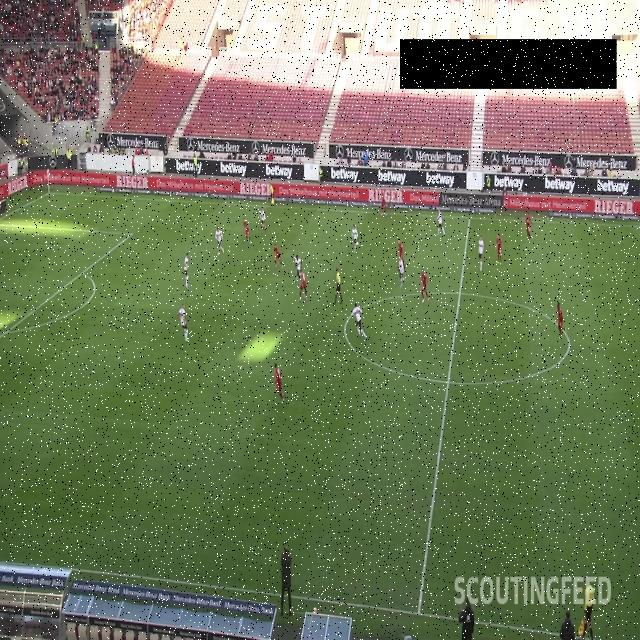Ball: (304, 293, 306, 299)
Referee: (577, 577, 595, 640), (334, 268, 343, 304), (268, 183, 274, 204)
TEAM 1: (274, 362, 284, 404), (556, 300, 566, 339), (420, 268, 429, 305), (494, 233, 504, 266), (298, 269, 307, 302), (243, 216, 252, 245), (274, 244, 284, 270), (525, 211, 533, 243), (398, 238, 406, 270), (380, 193, 388, 217)
TEAM 2: (176, 301, 190, 343), (350, 301, 365, 339), (294, 253, 305, 284), (434, 209, 446, 237), (183, 251, 191, 290), (215, 226, 225, 256), (351, 224, 360, 253), (478, 235, 485, 272), (398, 255, 405, 288), (260, 207, 267, 232)
